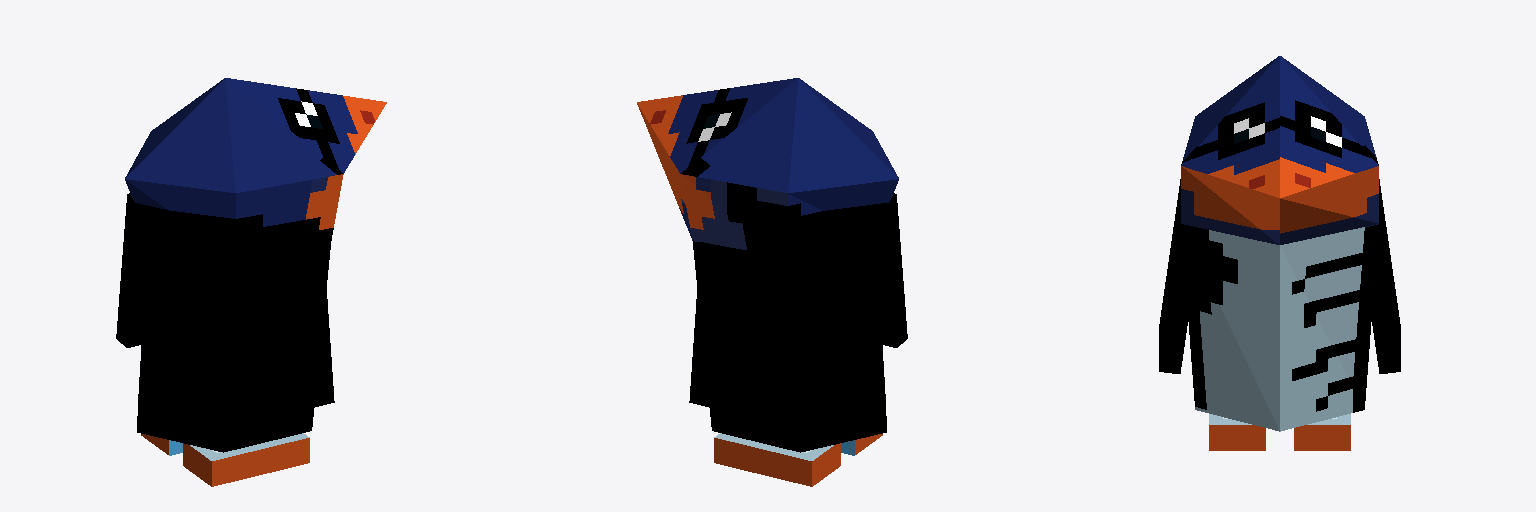
3 renders of one model, left to right at view 1: azimuth 30°, elevation 25°; view 2: azimuth 150°, elevation 25°; view 3: azimuth 270°, elevation 25°, orthographic.
Parts seen in each view (by area): view 1: body, l_wing, l_foot, r_wing; view 2: body, r_wing, r_foot, l_wing; view 3: body, l_wing, r_wing, l_foot, r_foot.
Part boxes in pixels (bbox=[...]): body: bbox=[125, 78, 386, 452]; l_wing: bbox=[215, 242, 334, 425]; l_foot: bbox=[183, 433, 309, 486]; r_wing: bbox=[116, 193, 147, 347]; body: bbox=[637, 78, 898, 452]; r_wing: bbox=[689, 242, 808, 425]; r_foot: bbox=[714, 433, 840, 486]; l_wing: bbox=[876, 193, 907, 347]; body: bbox=[1181, 56, 1378, 431]; l_wing: bbox=[1159, 179, 1187, 373]; r_wing: bbox=[1372, 179, 1400, 373]; l_foot: bbox=[1209, 414, 1265, 450]; r_foot: bbox=[1294, 414, 1350, 450].
Bounding box in the file's own units: 1.34 × 1.81 × 1.07.
Materials: 1 (1 with a texture image).